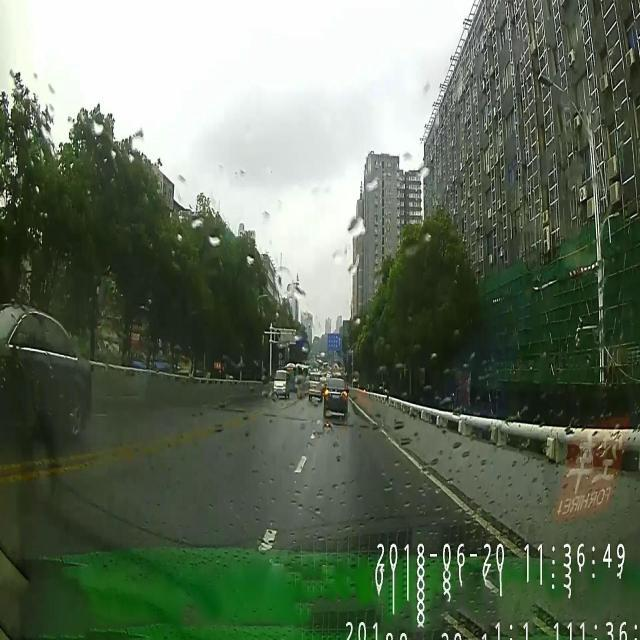car: (0, 301, 92, 438), (322, 376, 348, 418), (272, 366, 288, 397), (308, 372, 321, 404)
